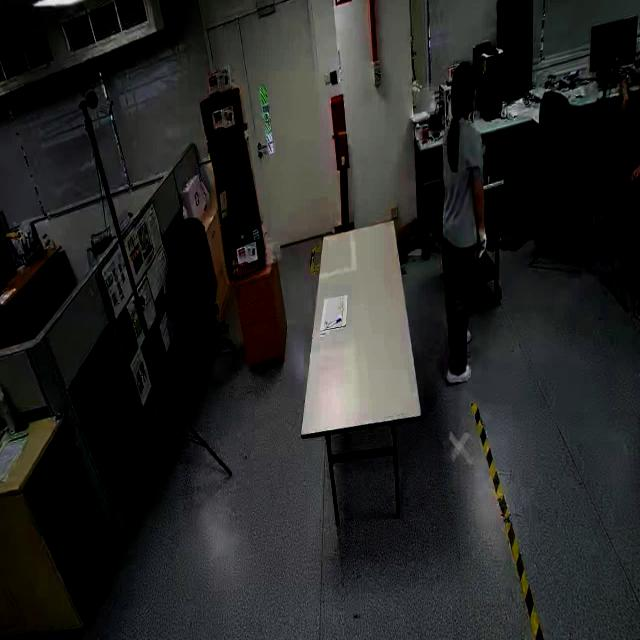hand_glove: (474, 222, 490, 262)
hand_noglove: (617, 98, 631, 122), (628, 163, 640, 185)
head_nohelmet: (452, 61, 477, 82)
person: (429, 59, 488, 408)
shoes: (444, 357, 476, 386)
